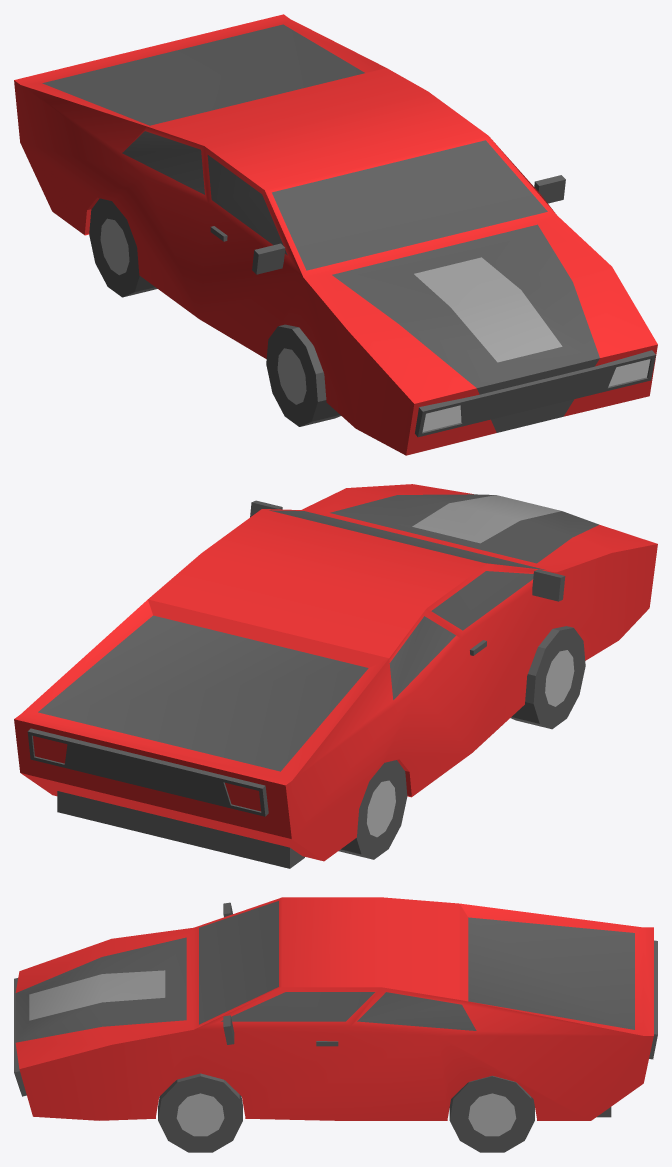
Rendered from SM_Car_05_01.FBX.
3 views of the same model, one above another, from view 1: azimuth 30°, elevation 25°; view 2: azimuth 150°, elevation 25°; view 3: azimuth 270°, elevation 25° (orthographic). The views are drawn at different scales.
Parts seen in each view (by area): view 1: SM_Car_05_01, SM_Wheel_LFront002, SM_Wheel_RBack001; view 2: SM_Car_05_01, SM_Wheel_LFront002, SM_Wheel_RBack001; view 3: SM_Car_05_01, SM_Wheel_LFront001, SM_Wheel_LBack001.
Part boxes in pixels (x1,y1,x2,y2): SM_Car_05_01: (14,14,657,455); SM_Wheel_LFront002: (266,324,340,426); SM_Wheel_RBack001: (89,198,157,297); SM_Car_05_01: (14,484,657,868); SM_Wheel_LFront002: (510,626,585,729); SM_Wheel_RBack001: (338,760,407,859); SM_Car_05_01: (14,897,657,1120); SM_Wheel_LFront001: (158,1073,242,1152); SM_Wheel_LBack001: (449,1075,534,1152).
Size of the model in its own units: 1.7 by 1 by 3.74.
1 material, 1 textured.
